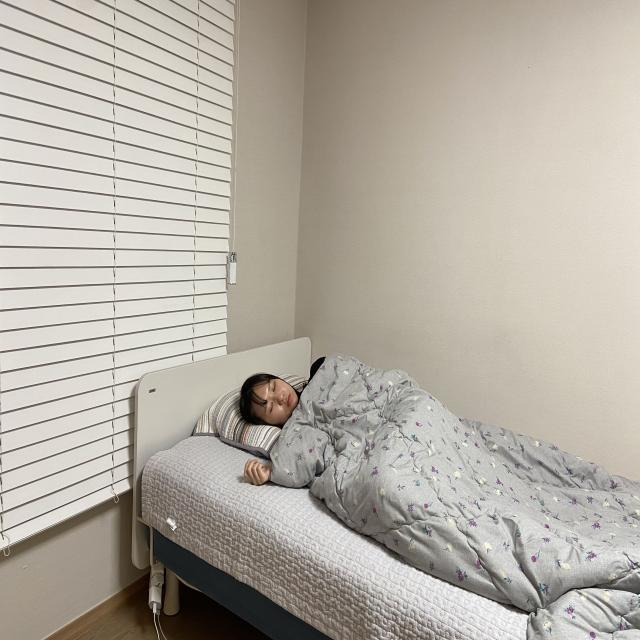sleeping-person: (227, 333, 637, 601)
